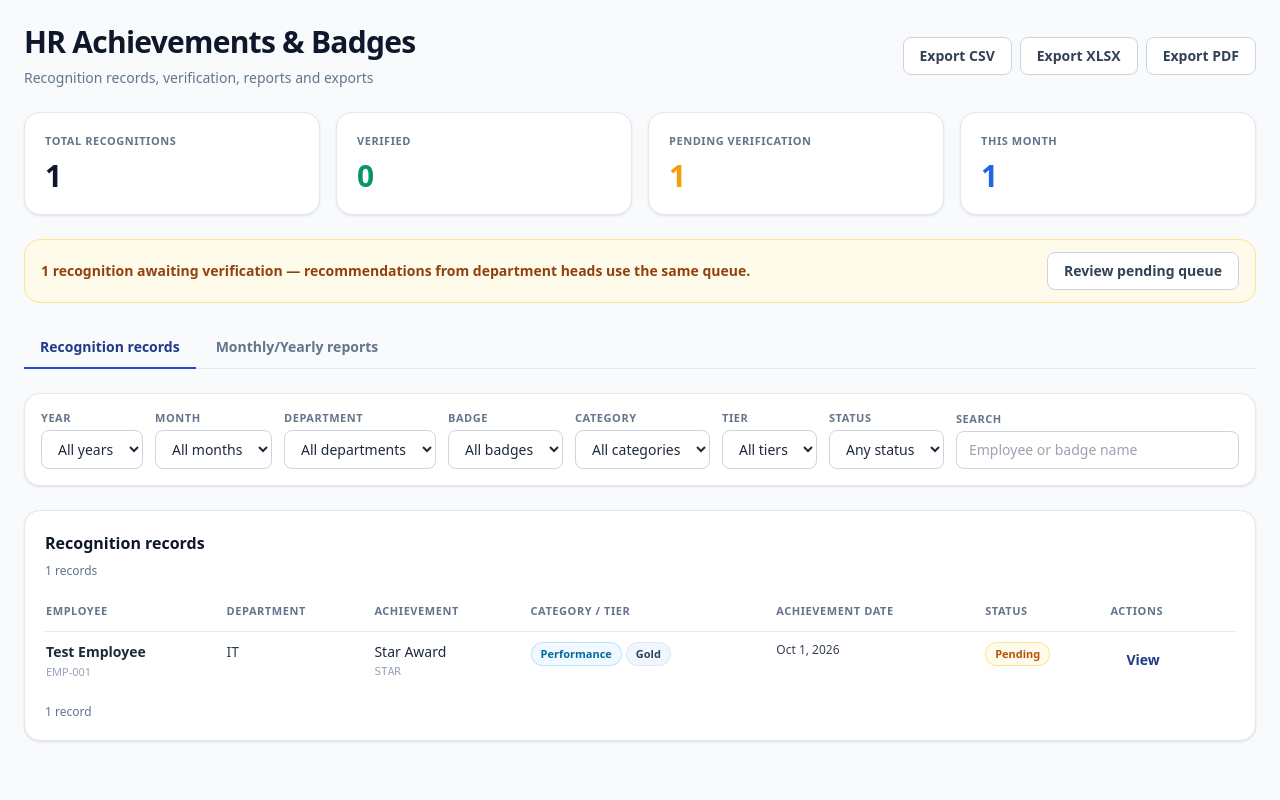
Test: recognition detail modal — evidence rendering › shows "No evidence details available" and hides development metadata entirely
The image size is (1280, 800).
Expected: the text "Test Employee" is shown, [46,642,146,661]
What coordinates should you click on to do the following:
click the button "View"
I would click on:
 (1143, 660)
Its box is [1110,642,1176,678].
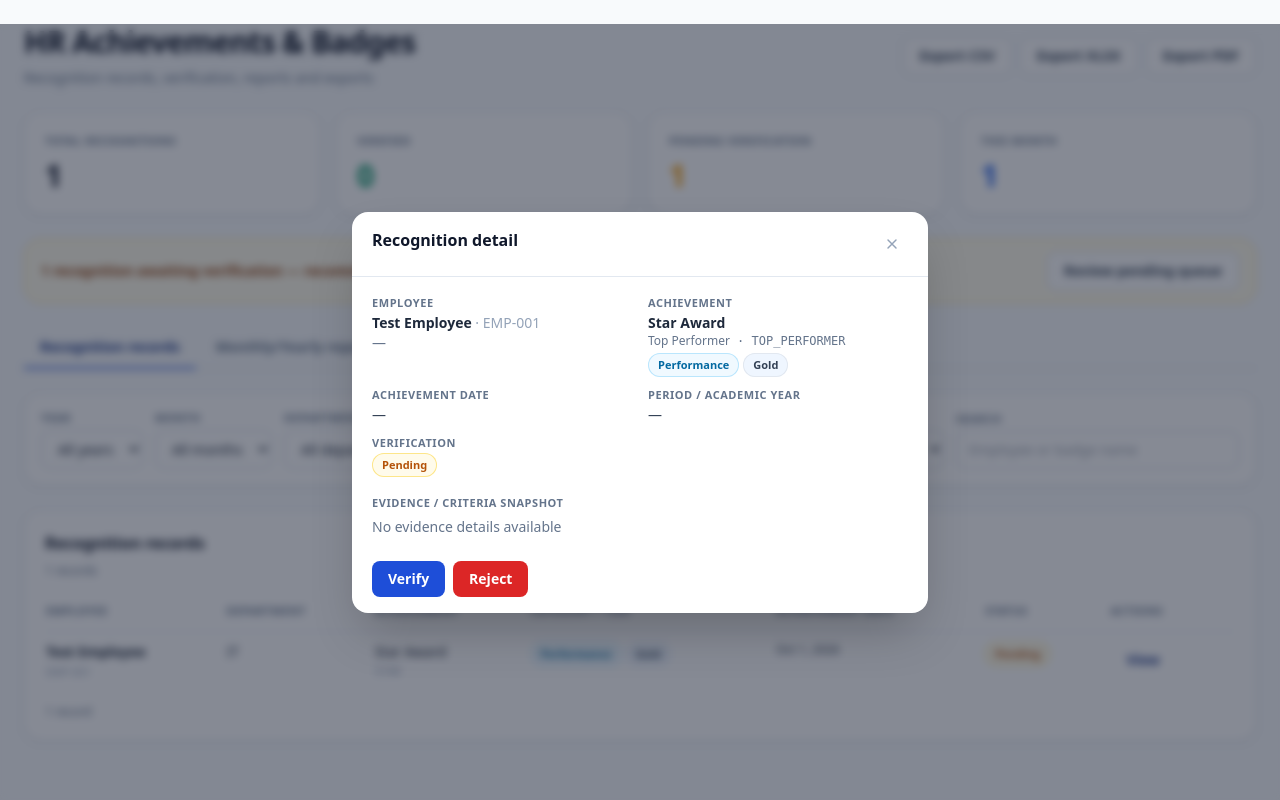
Expected: the text "No evidence details available" is shown, [372,516,562,536]
